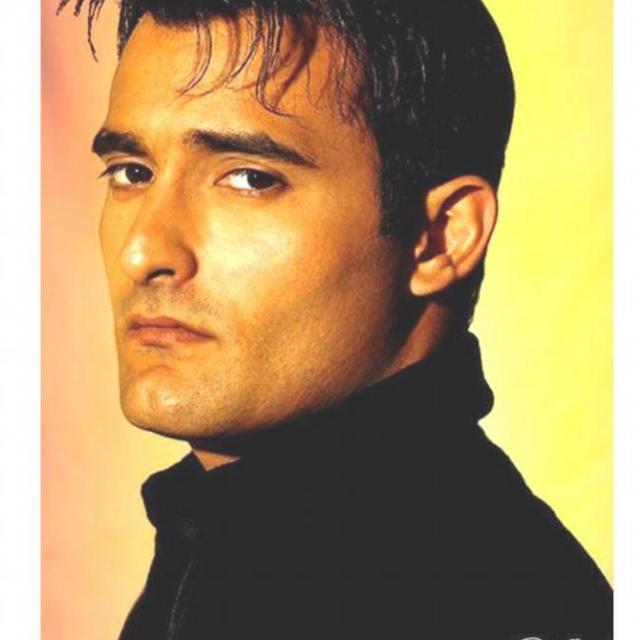live: (75, 0, 511, 446)
